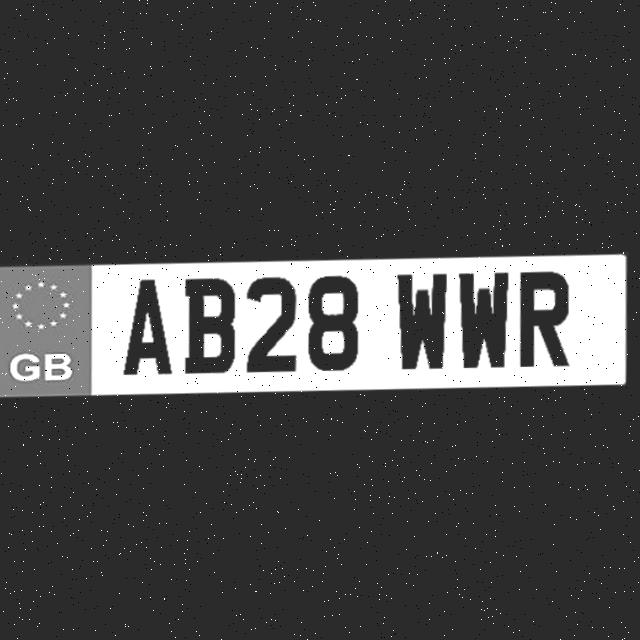license-plates: (0, 253, 628, 396)
